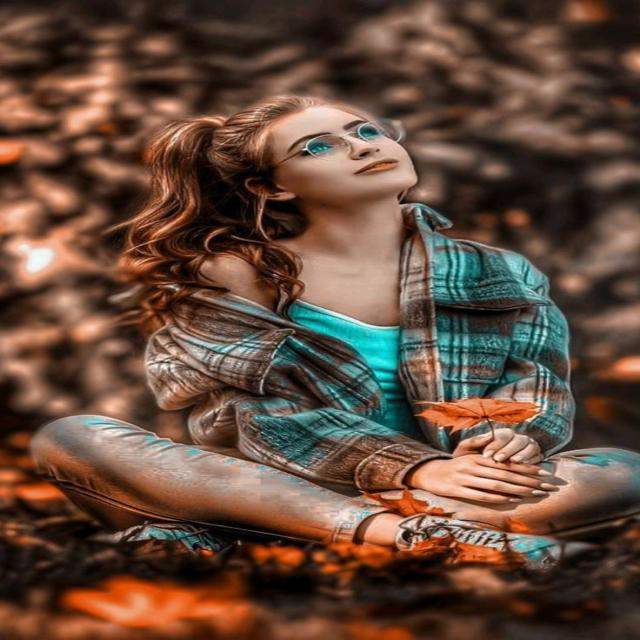Edited images: (33, 80, 632, 590)
